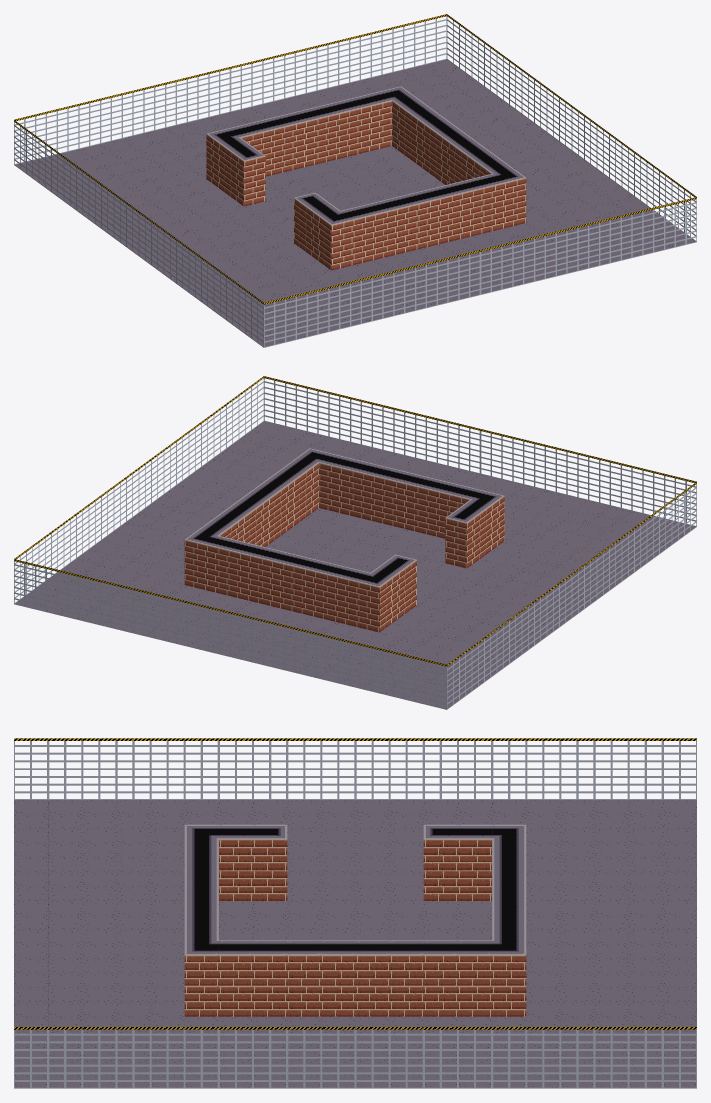
3 renders of one model, top to bottom at view 1: azimuth 30°, elevation 25°; view 2: azimuth 150°, elevation 25°; view 3: azimuth 270°, elevation 25°, orthographic. The views are drawn at different scales.
Visible parts, largest first — view 1: Test; view 2: Test; view 3: Test.
Boxes of the visible parts, <box> form: Test: <box>14,14,696,347</box>; Test: <box>14,376,696,709</box>; Test: <box>14,738,696,1088</box>.
Bounding box in the file's own units: 40 × 4 × 40.
Materials: 1 (1 with a texture image).
